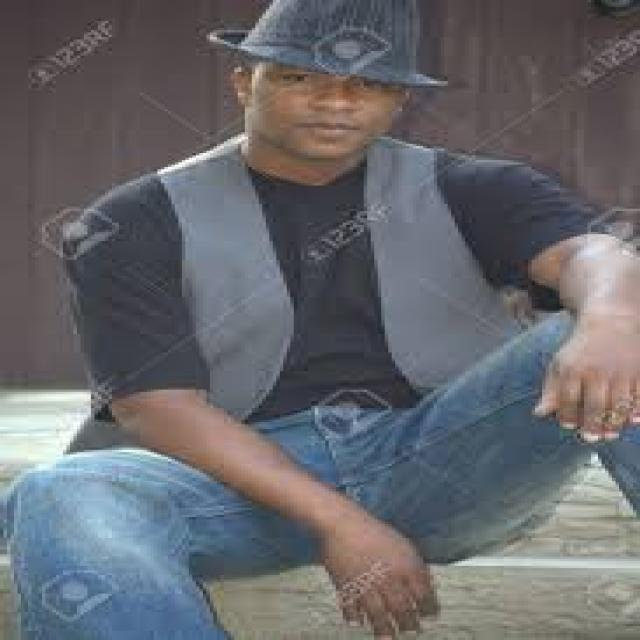hat: (206, 0, 448, 158)
